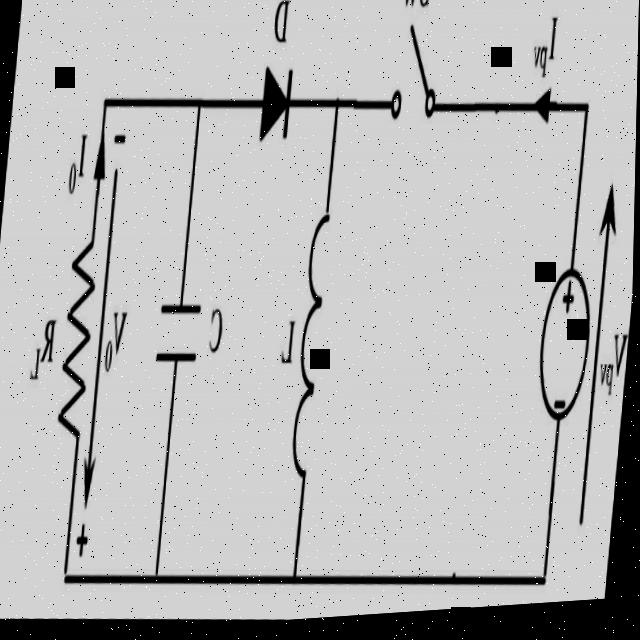capacitor: (147, 268, 219, 400)
diode: (251, 49, 301, 176)
inductor: (277, 175, 356, 521)
resistor: (51, 216, 108, 478)
source: (531, 256, 601, 449)
switch: (382, 12, 461, 148)
